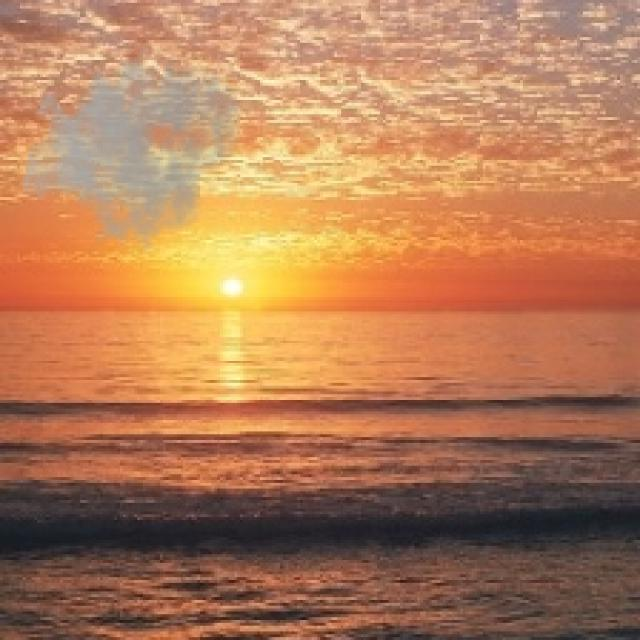smoke: (20, 34, 243, 254)
